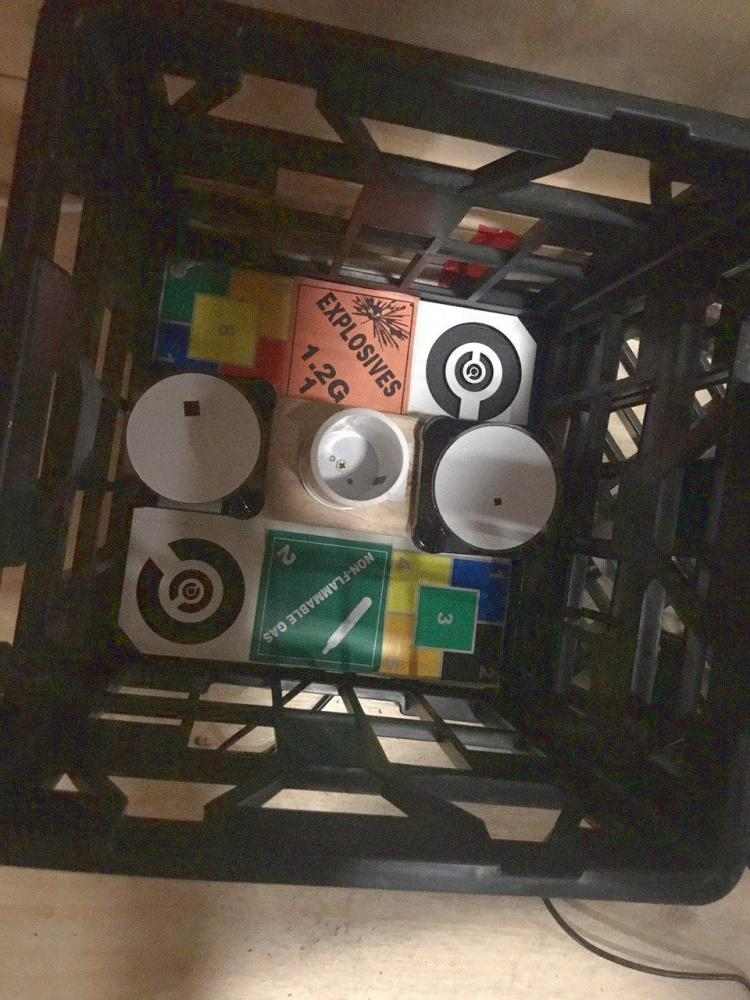explosive: (285, 276, 419, 409)
non-flammable-gas: (250, 534, 393, 667)
